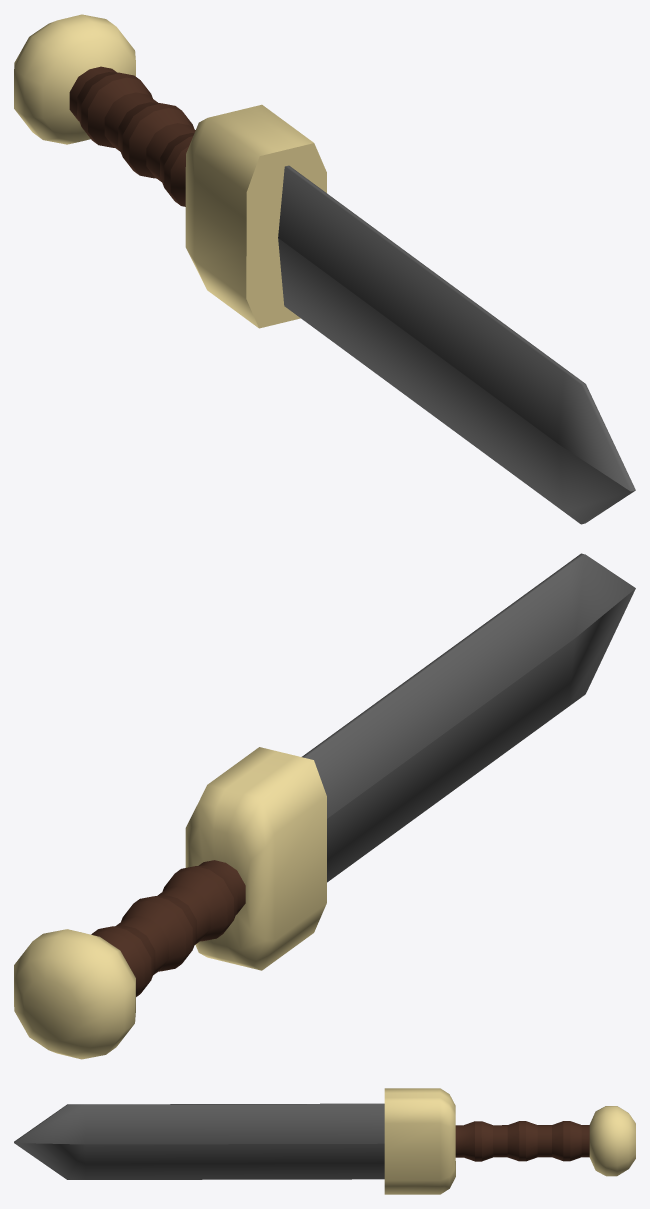
File: Pugio_1.fbx
3 renders of one model, top to bottom at view 1: azimuth 30°, elevation 25°; view 2: azimuth 150°, elevation 25°; view 3: azimuth 270°, elevation 25°, orthographic. The views are drawn at different scales.
Parts seen in each view (by area): view 1: Pugio_1; view 2: Pugio_1; view 3: Pugio_1.
Boxes of the visible parts, x1,y1,x2,y2 form: Pugio_1: (14,14,635,524); Pugio_1: (14,553,635,1059); Pugio_1: (14,1088,635,1194).
Bounding box in the file's own units: 6.44 × 9.62 × 58.68.
